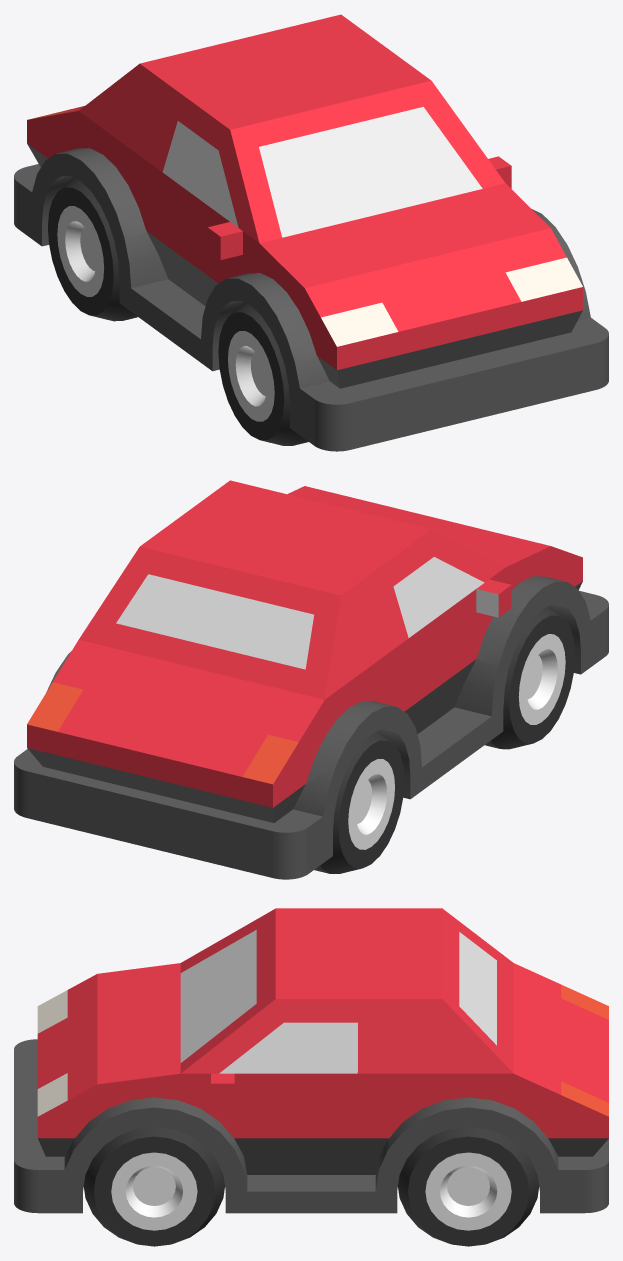
The model's file is sedan_sports.fbx.
3 renders of one model, top to bottom at view 1: azimuth 30°, elevation 25°; view 2: azimuth 150°, elevation 25°; view 3: azimuth 270°, elevation 25°, orthographic. The views are drawn at different scales.
Visible parts, largest first — view 1: sedanSports; view 2: sedanSports; view 3: sedanSports.
Boxes of the visible parts, left/top/right/bottom form: sedanSports: left=14, top=14, right=608, bottom=451; sedanSports: left=14, top=480, right=608, bottom=879; sedanSports: left=14, top=908, right=608, bottom=1246.
Size of the model in its own units: 9.75 by 8.25 by 18.75.
